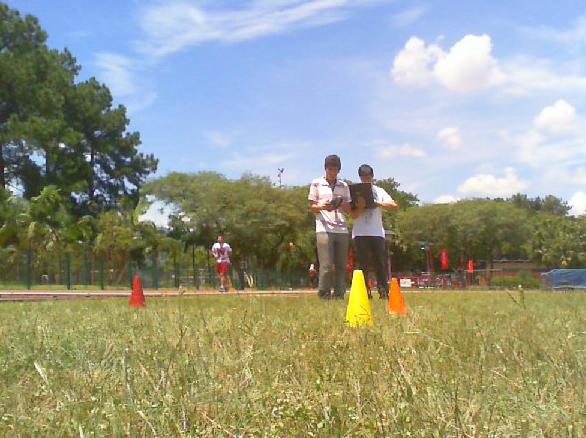0 cone: (344, 271, 375, 329), (385, 277, 407, 316), (128, 276, 144, 307)
